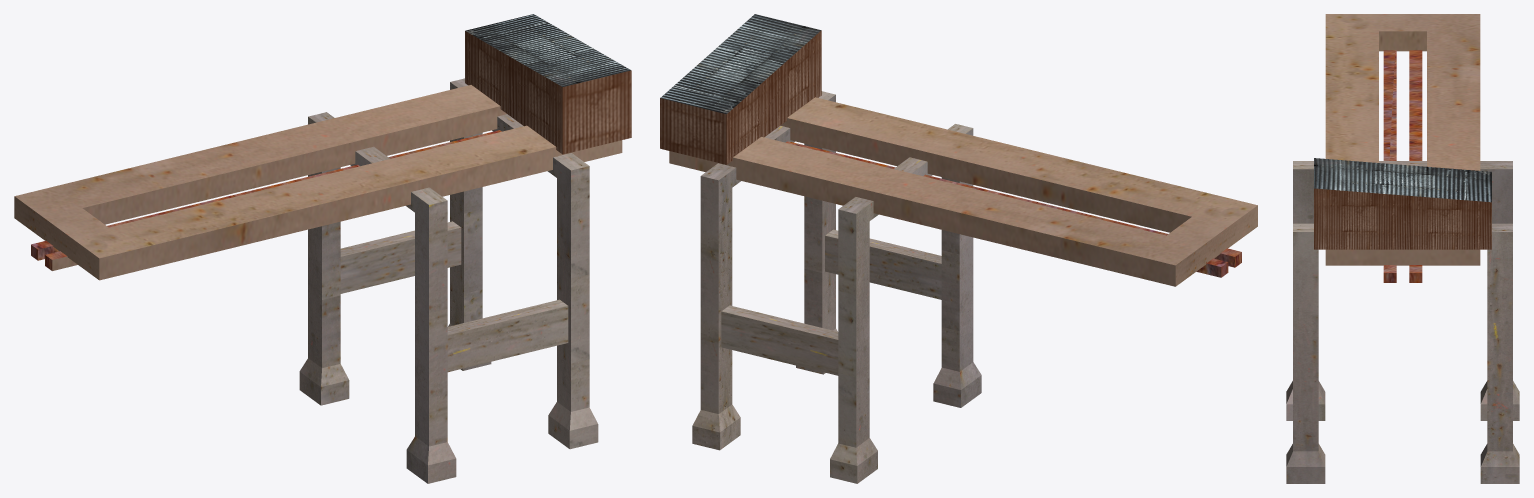
The model's file is zeeKraan.obj.
The picture shows the model from 3 angles, left to right: view 1: azimuth 30°, elevation 25°; view 2: azimuth 150°, elevation 25°; view 3: azimuth 270°, elevation 25°; orthographic projection. The views are drawn at different scales.
Visible parts, largest first — view 1: Frame_Cube.001; view 2: Frame_Cube.001; view 3: Frame_Cube.001.
Boxes of the visible parts, x1,y1,x2,y2 form: Frame_Cube.001: (14, 14, 631, 483); Frame_Cube.001: (660, 14, 1257, 483); Frame_Cube.001: (1286, 14, 1519, 483).
Size of the model in its own units: 50 by 30 by 20.
1 material, 1 textured.
